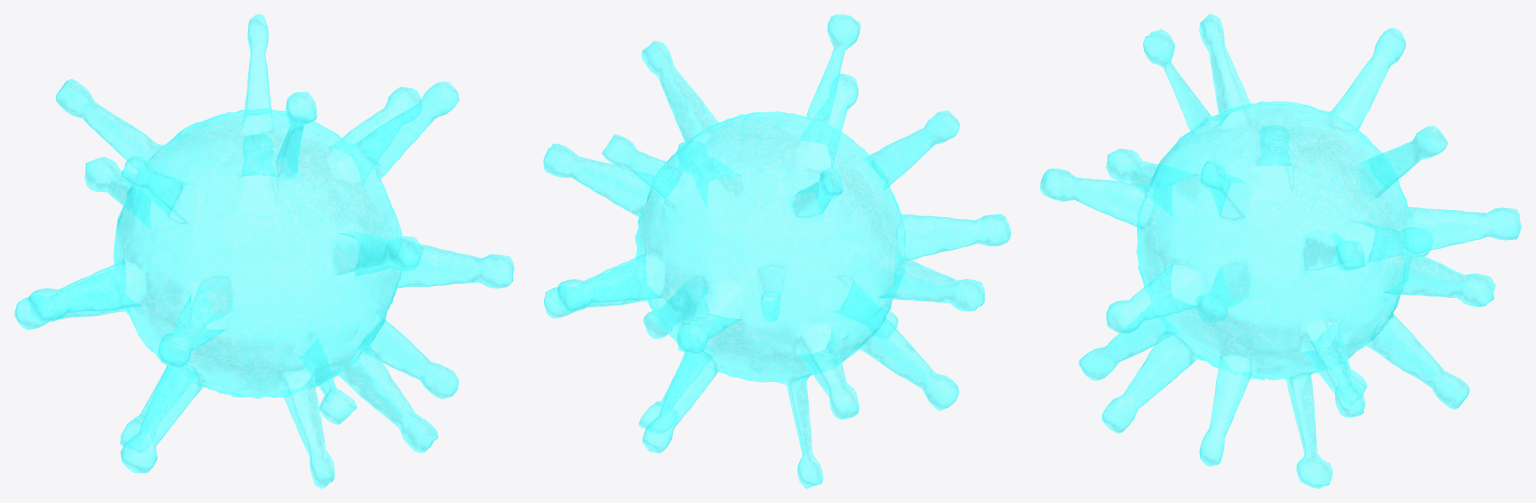
3 renders of one model, left to right at view 1: azimuth 30°, elevation 25°; view 2: azimuth 150°, elevation 25°; view 3: azimuth 270°, elevation 25°, orthographic. The views are drawn at different scales.
Parts seen in each view (by area): view 1: Sphere001; view 2: Sphere001; view 3: Sphere001.
Boxes of the visible parts, bbox=[...] form: Sphere001: bbox=[14, 14, 514, 488]; Sphere001: bbox=[543, 14, 1011, 488]; Sphere001: bbox=[1040, 14, 1521, 488].
Size of the model in its own units: 81.13 by 75.81 by 81.99.
1 material, 1 textured.
